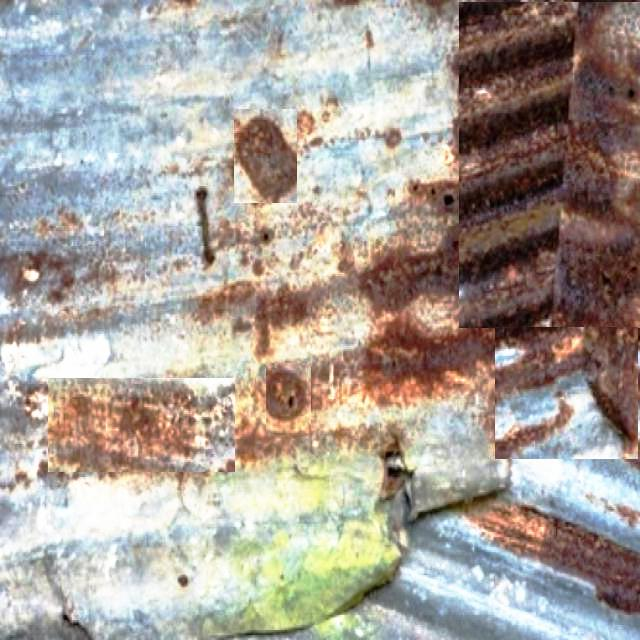Corrosion: (460, 1, 577, 326), (559, 2, 640, 328), (467, 503, 640, 614), (364, 318, 492, 405), (363, 226, 457, 312), (585, 328, 640, 458), (234, 109, 296, 202), (516, 329, 585, 390), (254, 285, 310, 358), (265, 367, 307, 420)
